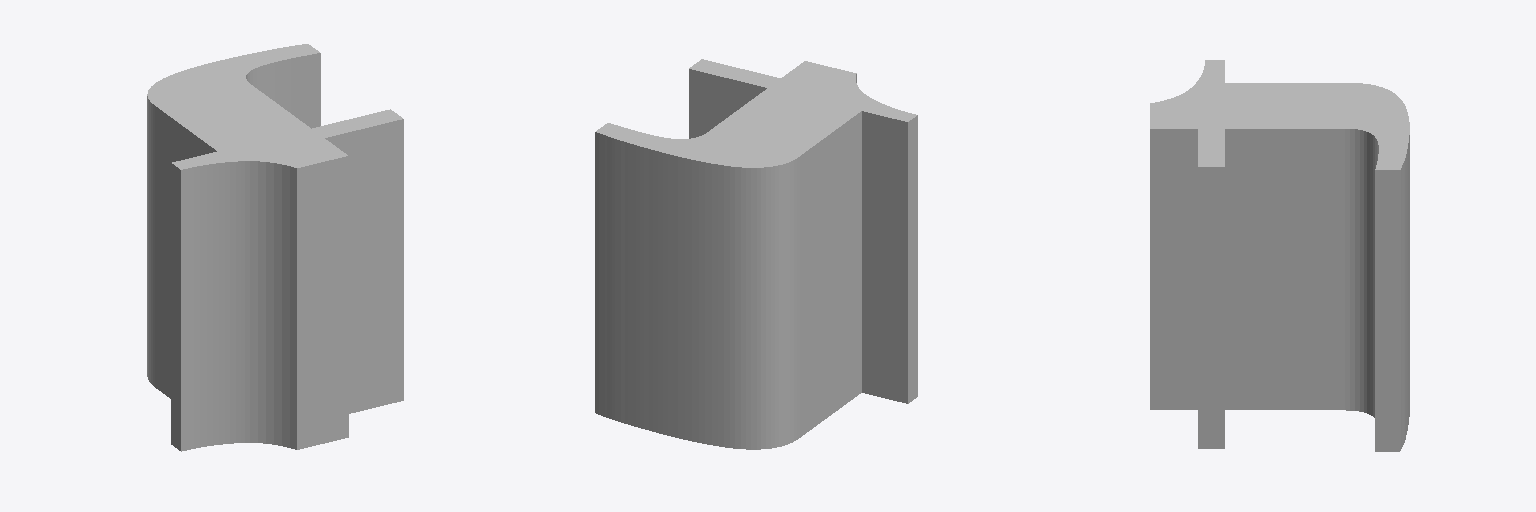
3 renders of one model, left to right at view 1: azimuth 30°, elevation 25°; view 2: azimuth 150°, elevation 25°; view 3: azimuth 270°, elevation 25°, orthographic.
Visible parts, largest first — view 1: obj_0; view 2: obj_0; view 3: obj_0.
Part boxes in pixels (bbox=[...]): obj_0: bbox=[147, 44, 403, 451]; obj_0: bbox=[595, 59, 917, 449]; obj_0: bbox=[1150, 60, 1409, 451].
Bounding box in the file's own units: 5 × 5.99 × 5.